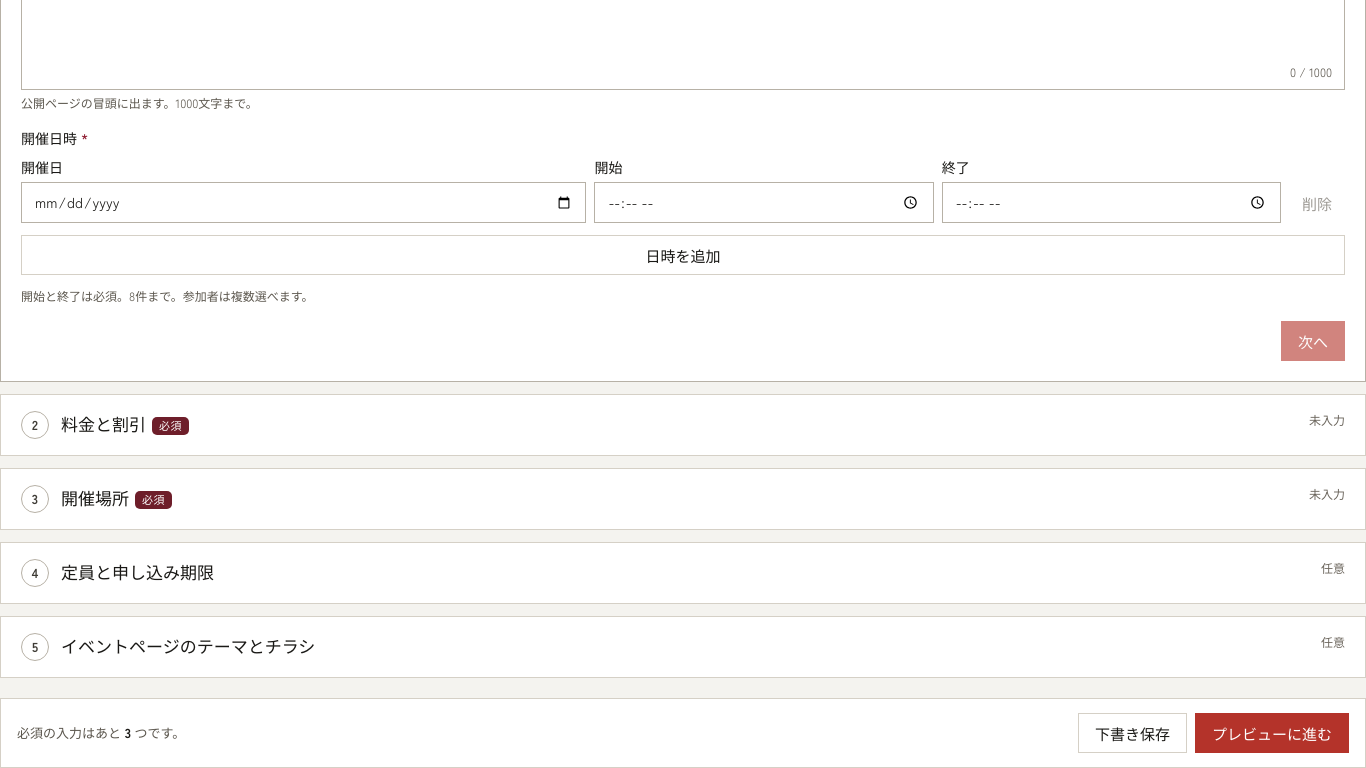
it: 保存できないときの欄ごとのエラー › イベント名が空なら、その欄の下に理由を出してフォーカスを移す
(page scrolled)
Click the button "下書き保存" at (1132, 733), box x1=1078 y1=713 x2=1187 y2=753
(page scrolled)
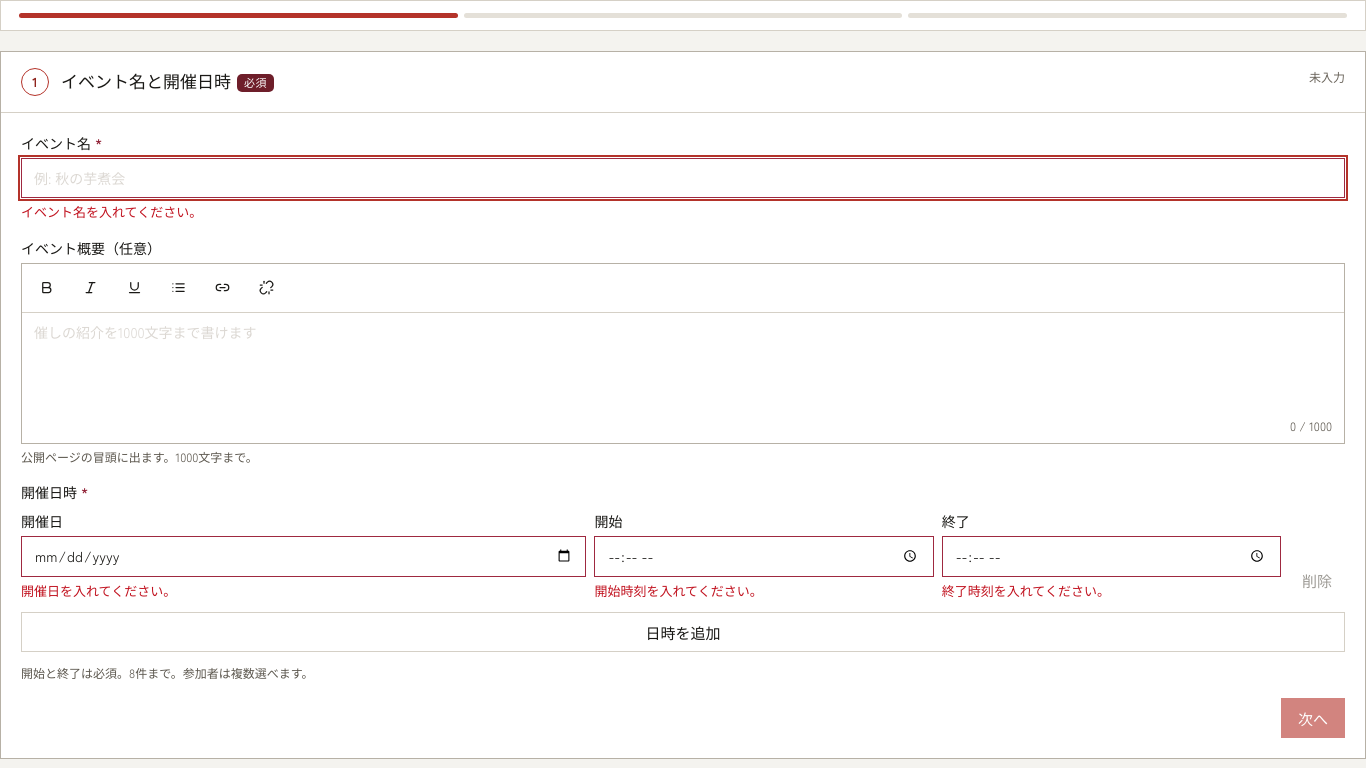
Now the text "イベント名を入れてください。" is shown, box x1=21 y1=202 x2=202 y2=221
